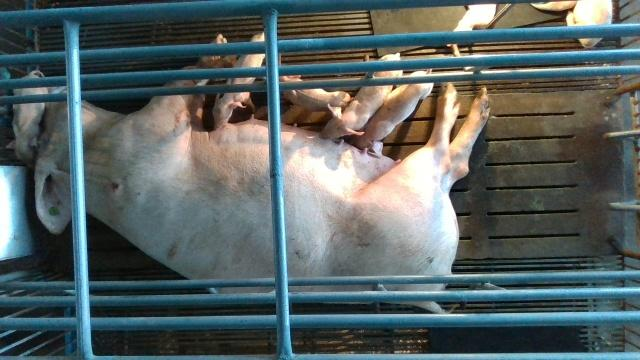piglet: (322, 50, 403, 144), (359, 64, 434, 154), (269, 59, 351, 123), (212, 32, 265, 130), (6, 69, 48, 168), (451, 2, 505, 58), (563, 1, 611, 50)
sow-sleep-lactate: (32, 35, 491, 314)
